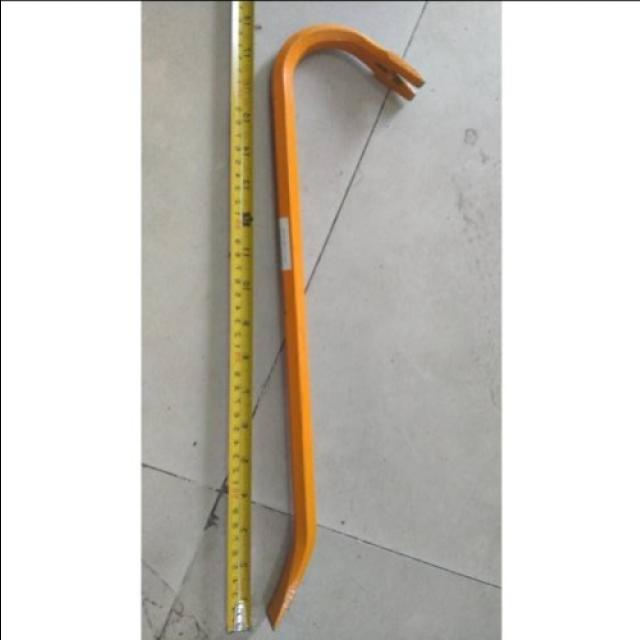Linggis: (266, 28, 426, 627)
